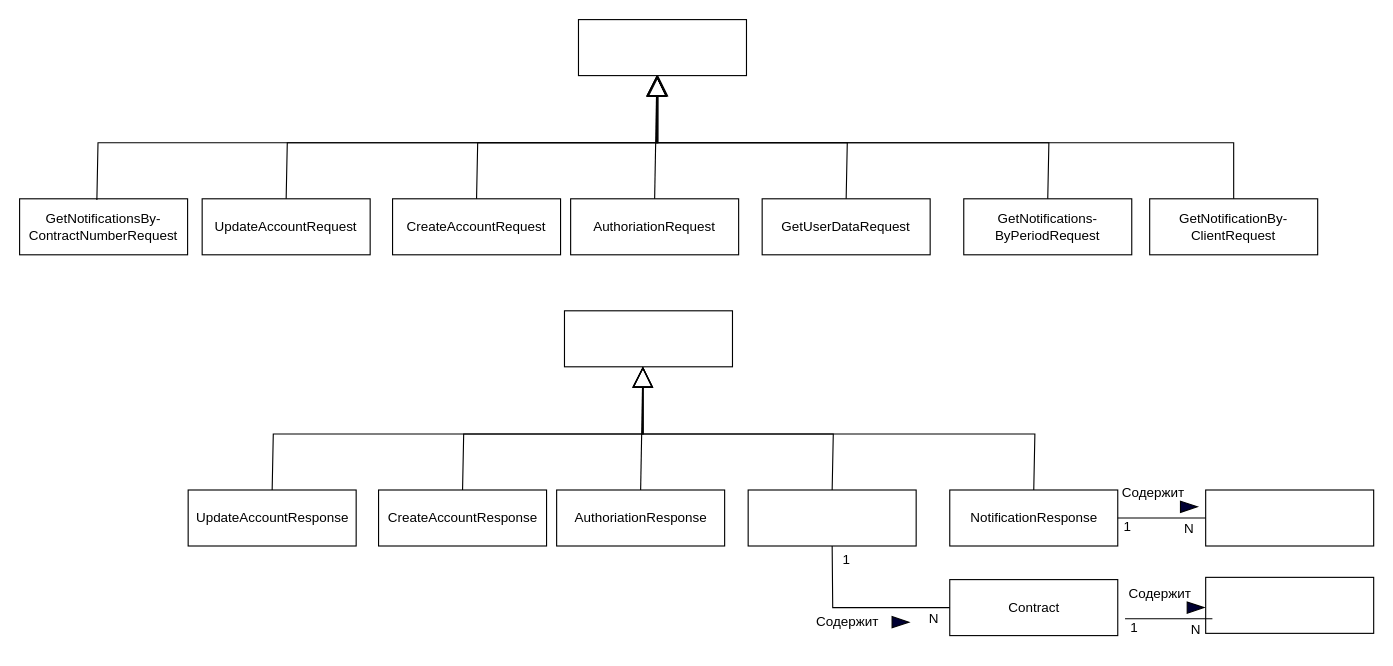
This 1393x666 diagram has some shape labels left out. Here are the shapes that lost their labels. From the top down, the centre of each, then its label:
At (x=661, y=47): "BaseRequest".
At (x=647, y=338): "BaseResponse".
At (x=831, y=517): "GetUserDataResponse".
At (x=1289, y=517): "Notification".
At (x=1289, y=604): "Payment".
